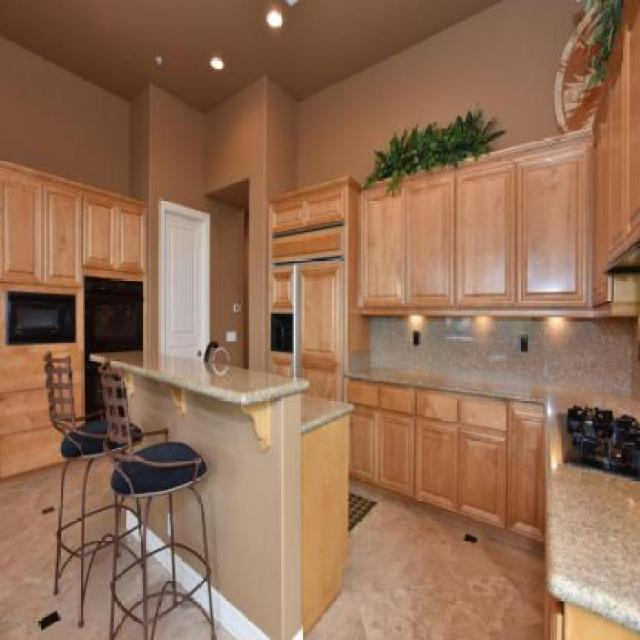Floor: (305, 480, 544, 639), (0, 462, 114, 638), (155, 601, 211, 639), (62, 460, 88, 527), (84, 457, 114, 514), (115, 563, 143, 610), (84, 509, 115, 543), (146, 556, 172, 596), (60, 520, 80, 552), (116, 546, 136, 575), (119, 534, 141, 558), (214, 620, 234, 638), (83, 554, 93, 587), (58, 547, 70, 573), (147, 596, 159, 620), (158, 596, 173, 614), (118, 508, 127, 536), (176, 581, 188, 595), (84, 543, 97, 554), (148, 624, 153, 638), (165, 584, 173, 590), (176, 596, 182, 602), (104, 536, 113, 540), (99, 543, 106, 546), (78, 550, 80, 554)
